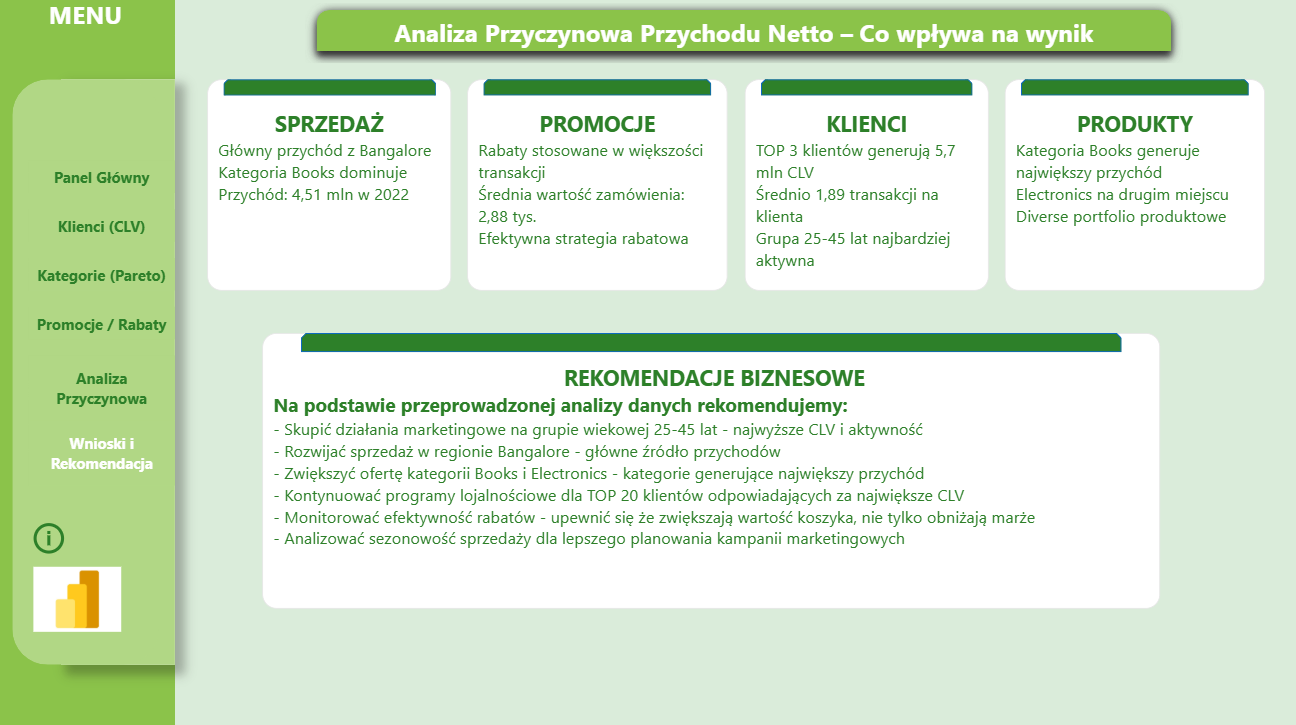

The dashboard page shown, as its layout file describes it:
{"tool":"powerbi","page":{"name":"Wnioski i Rekomendacja","canvas":[1280,720],"ordinal":6},"visuals":[{"type":"shape","title":"MENU","box":[0,0,176,720],"z":0,"group":"g1"},{"type":"shape","title":"naglowek","box":[304,0,864,64],"z":0},{"type":"actionButton","title":"Wnioski i Rekomendacja","box":[32,416,144,64],"z":0,"group":"g2"},{"type":"group","id":"g1","title":"Menu","box":[0,0,176,720],"z":1000},{"type":"shape","title":"boczny pasek2","box":[64,80,112,576],"z":1000,"group":"g1"},{"type":"actionButton","title":"insight","box":[32,352,144,64],"z":1000,"group":"g2"},{"type":"shape","title":"boczny pasek1","box":[16,80,144,576],"z":2000,"group":"g1"},{"type":"actionButton","title":"promocje i rabaty","box":[32,304,144,32],"z":2000,"group":"g2"},{"type":"textbox","box":[262.1,329.5,883.4,271.1],"z":2000},{"type":"actionButton","title":"Pereto","box":[32,256,144,32],"z":3000,"group":"g2"},{"type":"shape","box":[299.9,329.5,807.1,18.9],"z":3000},{"type":"image","title":"logo","box":[32,544,96,96],"z":3000,"group":"g1"},{"type":"textbox","box":[208,80,240,208],"z":4000},{"type":"group","id":"g2","title":"strony","box":[32,160,144,392],"z":4000,"group":"g1"},{"type":"actionButton","title":"klienci","box":[32,208,144,32],"z":4000,"group":"g2"},{"type":"shape","box":[223.5,79.9,209.2,16.2],"z":5000},{"type":"actionButton","title":"Panel","box":[32,160,144,32],"z":5000,"group":"g2"},{"type":"shape","box":[480,80,224,16],"z":6000},{"type":"actionButton","title":"info","box":[32,512,40,40],"z":6000,"group":"g2"},{"type":"textbox","box":[464,80,256,208],"z":7000},{"type":"textbox","box":[736,80,240,208],"z":8000},{"type":"textbox","box":[992,80,256,208],"z":9000},{"type":"shape","box":[480,80,224,16],"z":10000},{"type":"shape","box":[752,80,208,16],"z":11000},{"type":"shape","box":[1008,80,224,16],"z":12000}]}

Visuals, with their boxes in screenshot pixels (x1, y1, x2, y2), scaled from the page's 1280x720 canvas onto the 1296x725 screenshot:
"MENU" shape: (0, 0, 178, 724)
"naglowek" shape: (308, 0, 1183, 64)
"Wnioski i Rekomendacja" actionButton: (32, 419, 178, 483)
"Menu" group: (0, 0, 178, 724)
"boczny pasek2" shape: (65, 81, 178, 661)
"insight" actionButton: (32, 354, 178, 419)
"boczny pasek1" shape: (16, 81, 162, 661)
"promocje i rabaty" actionButton: (32, 306, 178, 338)
textbox: (265, 332, 1160, 605)
"Pereto" actionButton: (32, 258, 178, 290)
shape: (304, 332, 1121, 351)
"logo" image: (32, 548, 130, 644)
textbox: (211, 81, 454, 290)
"strony" group: (32, 161, 178, 556)
"klienci" actionButton: (32, 209, 178, 242)
shape: (226, 80, 438, 97)
"Panel" actionButton: (32, 161, 178, 193)
shape: (486, 81, 713, 97)
"info" actionButton: (32, 516, 73, 556)
textbox: (470, 81, 729, 290)
textbox: (745, 81, 988, 290)
textbox: (1004, 81, 1264, 290)
shape: (486, 81, 713, 97)
shape: (761, 81, 972, 97)
shape: (1021, 81, 1247, 97)
